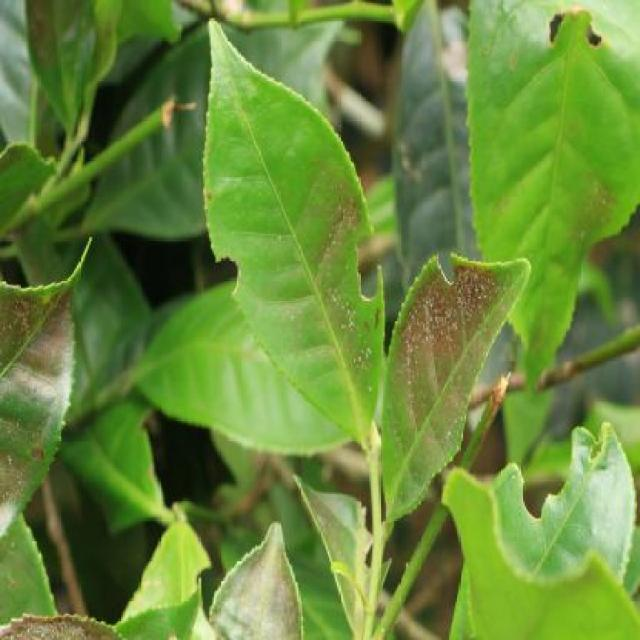Red Spider infested tea leaf: (195, 63, 392, 479), (386, 259, 543, 526), (0, 240, 94, 560)
